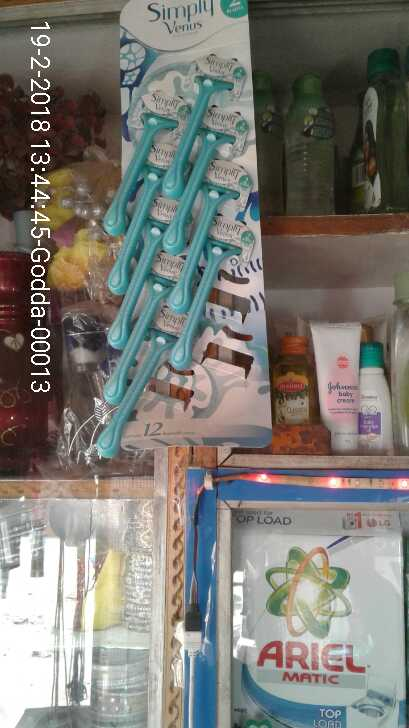beauty: (92, 59, 255, 456)
home: (231, 509, 387, 724)
